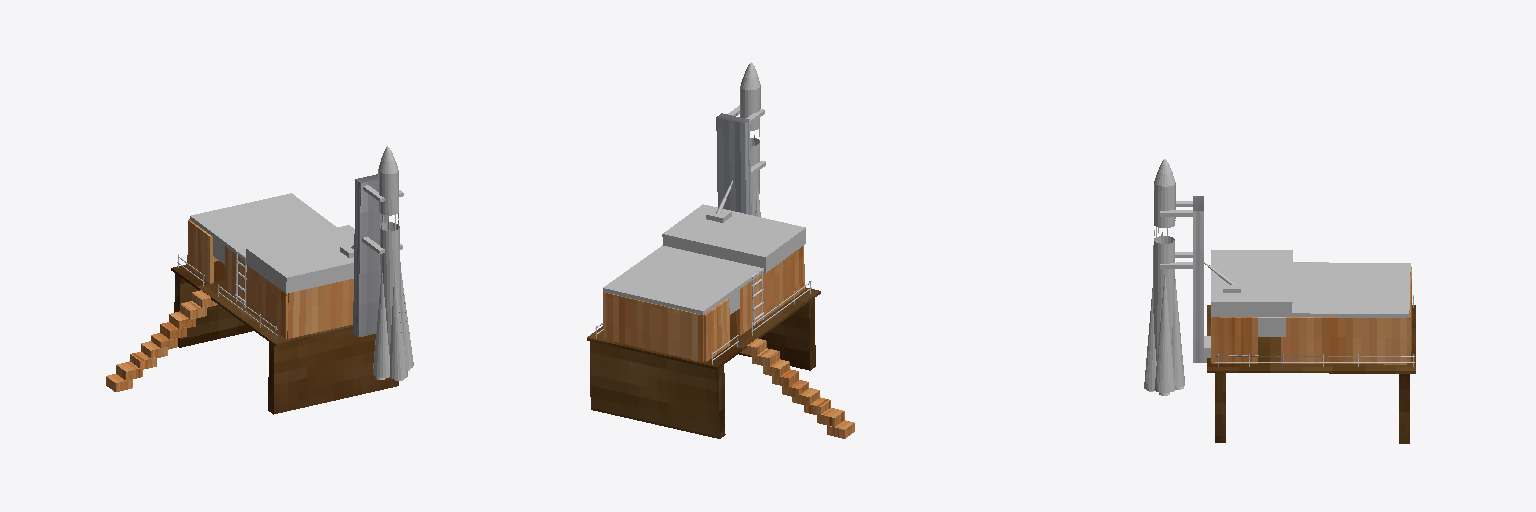
3 views of the same model, side by side, from view 1: azimuth 30°, elevation 25°; view 2: azimuth 150°, elevation 25°; view 3: azimuth 270°, elevation 25° (orthographic).
Parts seen in each view (by area): view 1: holders_piller.003_Cube.002, suspenssion_roof_Cube.016, roof_Plane.015, Cube.015_Cube.017, Plane.001_Plane.003, main_rocket_Cylinder, Plane.002_Plane.004, holders_base_Plane, holders_piller.001_Cube, Plane.004_Plane.006, right_rocket_Cone.006, top_rocket_Cone.005; view 2: holders_piller.001_Cube, roof_Plane.015, suspenssion_roof_Cube.016, Plane_Plane.002, Cube.015_Cube.017, Plane.002_Plane.004, holders_base_Plane, holders_piller.003_Cube.002, main_rocket_Cylinder, Plane.004_Plane.006; view 3: roof_Plane.015, Plane.003_Plane.005, suspenssion_roof_Cube.016, holders_base_Plane, main_rocket_Cylinder, Plane.005_Plane.007, Cube.015_Cube.017, bottom_rocket_Cone.013, holders_piller.001_Cube, holders_piller.003_Cube.002, left_rocket_Cone.014, right_rocket_Cone.006 (+1 smaller).
Boxes of the visible parts, x1=… form: holders_piller.003_Cube.002: x1=268, y1=329, x2=398, y2=414; suspenssion_roof_Cube.016: x1=246, y1=225, x2=354, y2=293; roof_Plane.015: x1=190, y1=193, x2=336, y2=260; Cube.015_Cube.017: x1=353, y1=174, x2=388, y2=337; Plane.001_Plane.003: x1=287, y1=279, x2=353, y2=338; main_rocket_Cylinder: x1=378, y1=146, x2=401, y2=354; Plane.002_Plane.004: x1=225, y1=246, x2=287, y2=338; holders_base_Plane: x1=171, y1=261, x2=352, y2=346; holders_piller.001_Cube: x1=174, y1=273, x2=253, y2=347; Plane.004_Plane.006: x1=187, y1=220, x2=213, y2=283; right_rocket_Cone.006: x1=389, y1=269, x2=407, y2=379; top_rocket_Cone.005: x1=373, y1=273, x2=389, y2=377; holders_piller.001_Cube: x1=590, y1=341, x2=725, y2=438; roof_Plane.015: x1=603, y1=245, x2=763, y2=314; suspenssion_roof_Cube.016: x1=662, y1=204, x2=805, y2=272; Plane_Plane.002: x1=605, y1=292, x2=704, y2=361; Cube.015_Cube.017: x1=716, y1=113, x2=751, y2=214; Plane.002_Plane.004: x1=736, y1=246, x2=804, y2=335; holders_base_Plane: x1=587, y1=287, x2=820, y2=369; holders_piller.003_Cube.002: x1=739, y1=298, x2=815, y2=370; main_rocket_Cylinder: x1=740, y1=62, x2=760, y2=215; Plane.004_Plane.006: x1=704, y1=298, x2=729, y2=361; roof_Plane.015: x1=1287, y1=262, x2=1410, y2=317; Plane.003_Plane.005: x1=1281, y1=317, x2=1406, y2=364; suspenssion_roof_Cube.016: x1=1211, y1=250, x2=1292, y2=317; holders_base_Plane: x1=1207, y1=305, x2=1415, y2=373; main_rocket_Cylinder: x1=1153, y1=159, x2=1175, y2=360; Plane.005_Plane.007: x1=1212, y1=317, x2=1257, y2=363; Cube.015_Cube.017: x1=1193, y1=196, x2=1203, y2=362; bottom_rocket_Cone.013: x1=1154, y1=275, x2=1175, y2=392; holders_piller.001_Cube: x1=1399, y1=374, x2=1409, y2=443; holders_piller.003_Cube.002: x1=1215, y1=373, x2=1225, y2=442; left_rocket_Cone.014: x1=1171, y1=279, x2=1184, y2=387; right_rocket_Cone.006: x1=1144, y1=288, x2=1156, y2=390.
Bounding box in the file's own units: 26.33 × 29.62 × 27.33.
Materials: 7 (3 with a texture image).